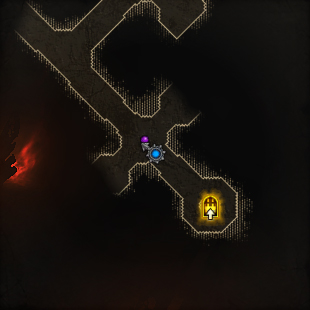Exit: (201, 193, 222, 222)
